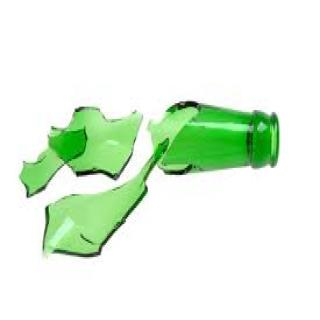GLASS: (143, 93, 287, 195)
